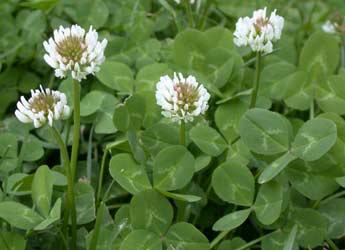clover: (5, 7, 341, 248)
